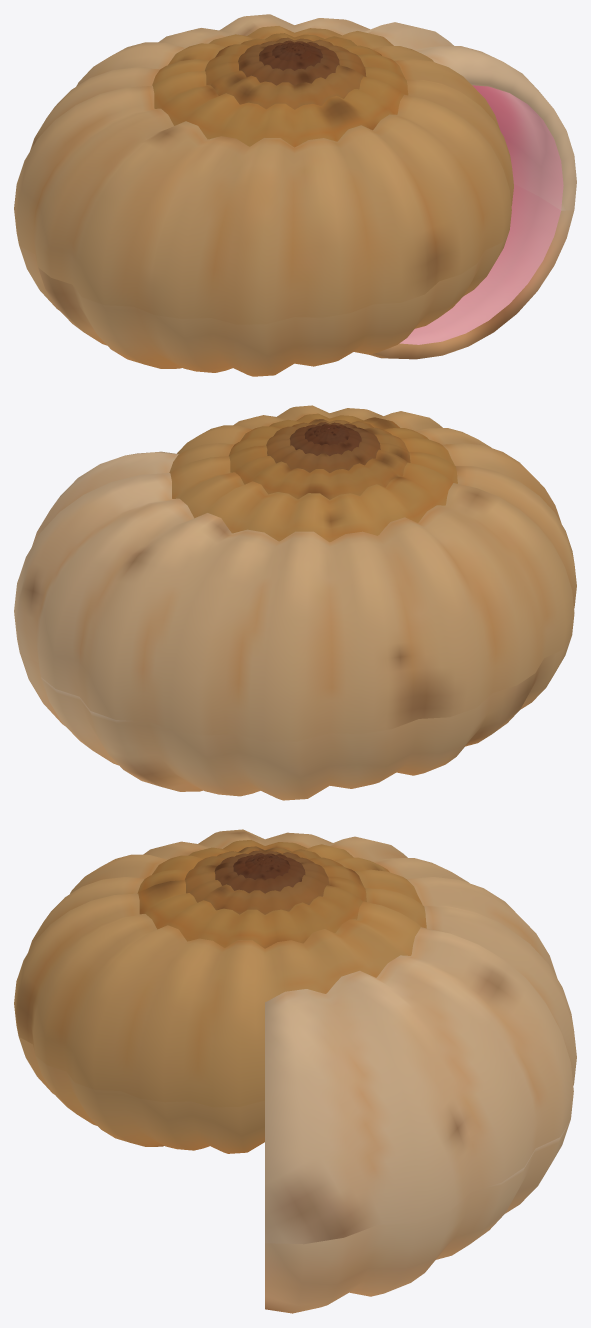
File: Beach_Shell_2.glb
3 views of the same model, one above another, from view 1: azimuth 30°, elevation 25°; view 2: azimuth 150°, elevation 25°; view 3: azimuth 270°, elevation 25° (orthographic). The views are drawn at different scales.
Visible parts, largest first — view 1: BC Shell.001; view 2: BC Shell.001; view 3: BC Shell.001.
Boxes of the visible parts, bbox=[...] form: BC Shell.001: bbox=[14, 14, 576, 376]; BC Shell.001: bbox=[14, 405, 576, 800]; BC Shell.001: bbox=[14, 829, 576, 1313].
Size of the model in its own units: 3.83 by 2.49 by 3.47.
1 material, 1 textured.
